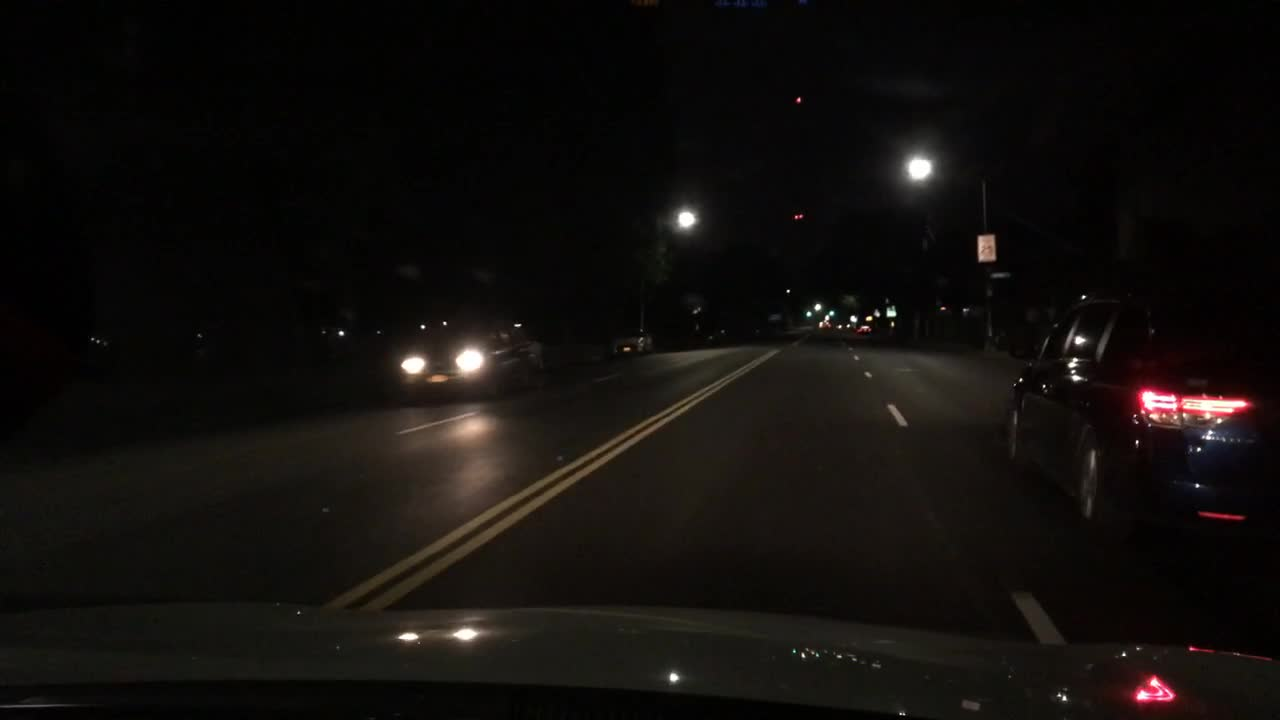car: (1006, 290, 1275, 544), (387, 310, 543, 399), (610, 328, 656, 355), (855, 319, 873, 332)
traffic light: (806, 306, 814, 317), (829, 306, 835, 317)
traffic sign: (975, 234, 998, 264), (988, 269, 1011, 281), (885, 306, 897, 316)
